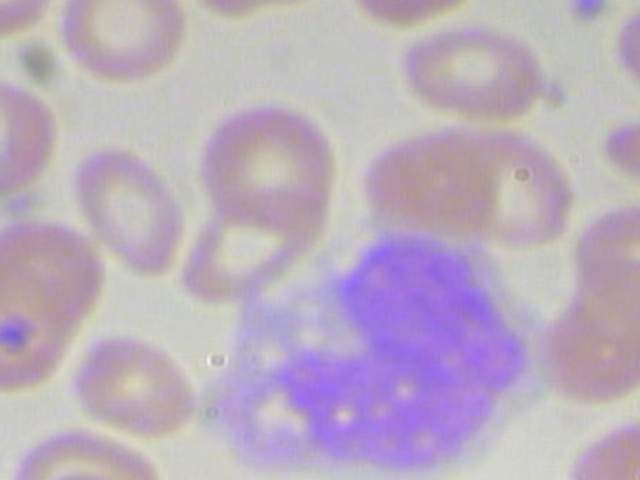RBC: (202, 94, 344, 228), (172, 186, 327, 302), (388, 20, 554, 128), (70, 142, 190, 276), (73, 311, 192, 445), (52, 0, 191, 109), (0, 68, 52, 202), (556, 408, 640, 480), (599, 109, 640, 209)
WBC: (195, 224, 555, 480)
